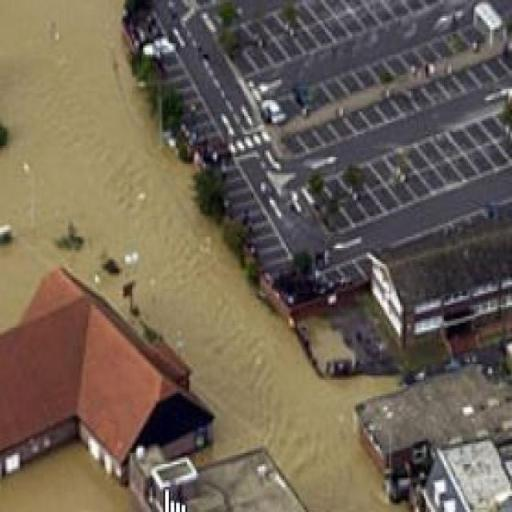flood: (0, 0, 409, 512), (0, 445, 134, 512), (299, 318, 355, 372)
house: (0, 252, 225, 512), (364, 218, 512, 335), (362, 393, 446, 493), (426, 440, 510, 512)
